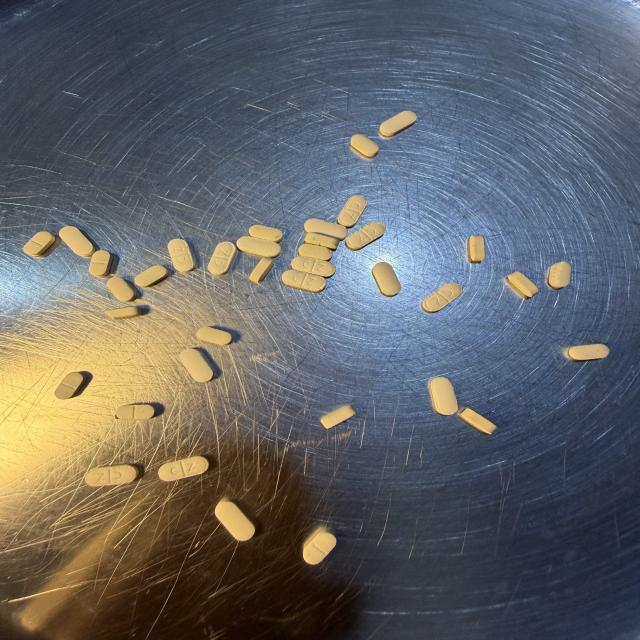pill: (215, 500, 255, 541), (159, 456, 209, 481), (421, 283, 462, 312), (85, 465, 139, 486), (180, 348, 213, 382), (429, 377, 458, 415), (346, 222, 385, 250), (303, 531, 336, 564), (59, 226, 94, 257), (372, 262, 401, 296), (282, 270, 326, 292), (459, 408, 496, 434), (208, 242, 236, 276), (338, 196, 367, 228), (236, 237, 280, 258), (168, 239, 195, 273), (304, 219, 347, 240), (380, 111, 416, 136), (320, 405, 356, 429), (292, 257, 335, 277), (55, 372, 86, 399), (507, 272, 539, 298), (24, 231, 55, 256), (135, 265, 169, 287), (107, 277, 136, 301), (568, 344, 609, 360), (89, 250, 113, 277), (351, 134, 379, 157), (197, 327, 232, 345), (116, 404, 155, 420), (548, 262, 571, 289), (250, 258, 273, 284), (305, 233, 340, 250), (298, 243, 333, 260), (249, 225, 282, 242), (105, 306, 142, 319), (468, 235, 485, 263)
